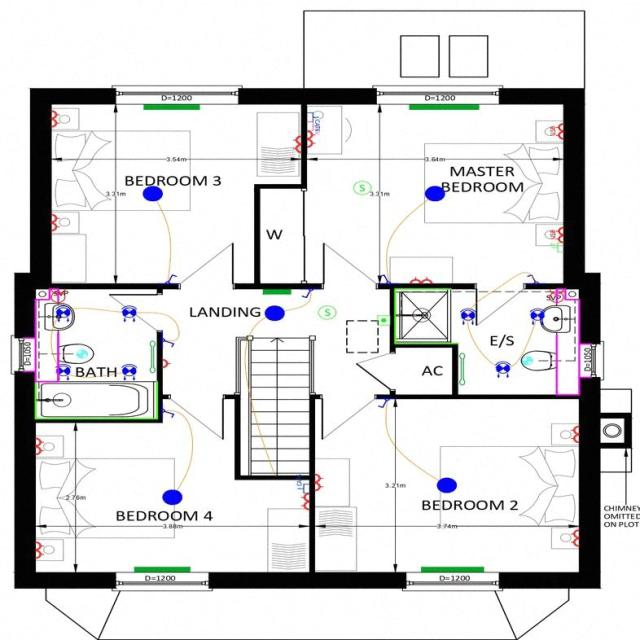Cat 6 Data Socket: (296, 474, 308, 493), (307, 112, 318, 130)
Ceiling Mounted Continuous Extract FanWith Boost Mode Activated By Light Switch: (75, 348, 87, 358), (521, 356, 532, 364)
Co-Ax TV Socket: (307, 120, 318, 134)
Double Socket: (50, 214, 60, 232), (50, 110, 60, 127), (408, 276, 432, 283), (569, 528, 578, 546), (307, 130, 316, 148), (569, 425, 578, 442), (35, 437, 44, 454), (35, 542, 44, 558), (300, 492, 308, 509), (292, 135, 300, 152), (314, 473, 322, 489)
Full Height Tiling: (34, 382, 157, 419), (394, 288, 454, 344)
Light Switch: (162, 337, 173, 347), (378, 398, 388, 408), (301, 288, 312, 297), (164, 274, 176, 282), (162, 408, 173, 416), (380, 274, 390, 282), (526, 274, 536, 282)
Low Energy Downlighter: (458, 308, 475, 325), (120, 304, 136, 322), (120, 363, 136, 380), (55, 304, 70, 322), (494, 361, 510, 377), (529, 307, 544, 324), (55, 363, 70, 380)
Low Energy Pendant Light: (424, 184, 445, 201), (436, 476, 456, 492), (141, 186, 163, 200), (162, 489, 182, 504), (264, 305, 282, 319)
Mains Wired Smoke Detector: (318, 304, 336, 318), (354, 180, 371, 193)
Programmable Room Thermostat: (377, 314, 389, 324)
Radiator: (420, 566, 483, 572), (409, 104, 479, 109), (142, 103, 198, 108), (134, 567, 189, 572), (261, 288, 290, 295)
Shaver Socket: (549, 287, 563, 306), (50, 288, 64, 306)
Single Socket: (162, 358, 170, 366)
Telephone Socket: (549, 240, 562, 251)
USB Double Socket: (548, 122, 563, 139), (550, 226, 562, 242)
